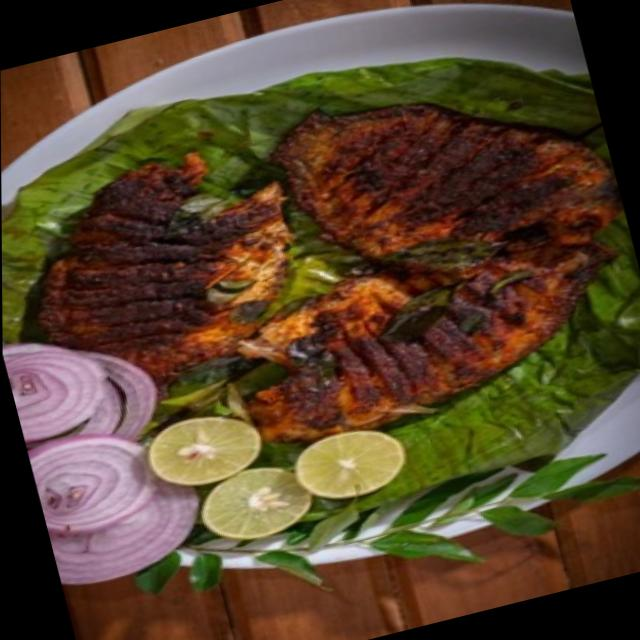FISH FRY: (1, 34, 640, 553)
